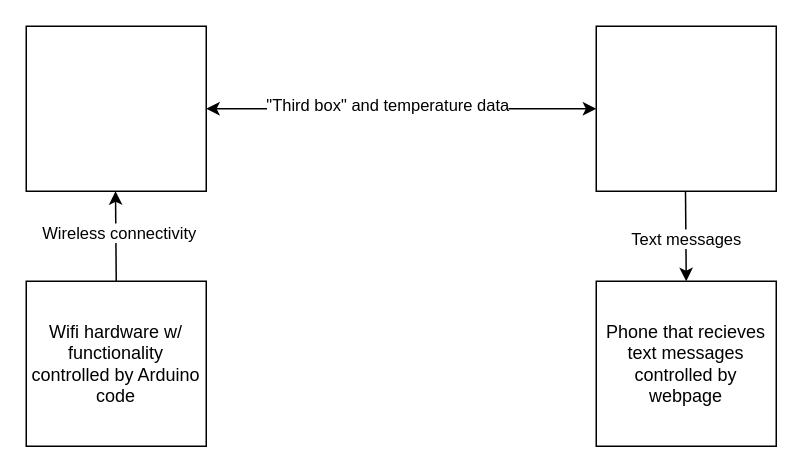
This 803x473 diagram has some shape labels left out. The shapes that lost their labels are listed below. From the top down, each one's centre as x and y in pixels, then its label:
(x=115, y=108): "Third box" hardware w/ functionality controlled by Arduino code
(x=685, y=108): Computer w/ webpage controlled by Flask & HTML
